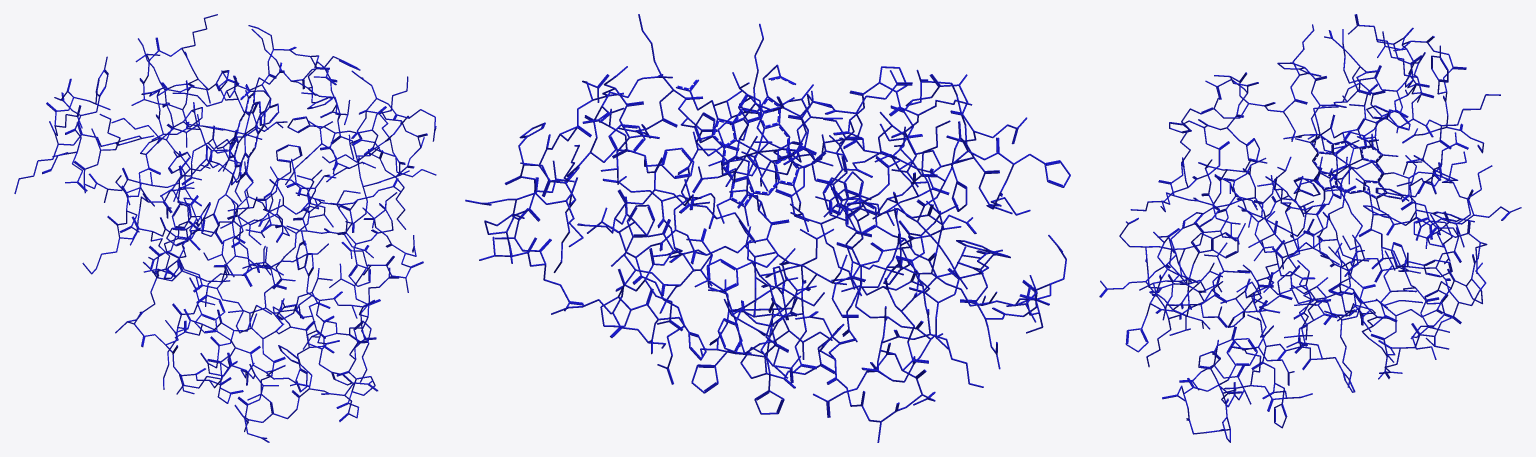
The model's file is 1mbn__lines__b-factor.glb.
3 views of the same model, side by side, from view 1: azimuth 30°, elevation 25°; view 2: azimuth 150°, elevation 25°; view 3: azimuth 270°, elevation 25° (orthographic). The views are drawn at different scales.
Parts seen in each view (by area): view 1: Renderer Node; view 2: Renderer Node; view 3: Renderer Node.
Boxes of the visible parts, <box> form: Renderer Node: <box>14,14,436,442</box>; Renderer Node: <box>465,14,1070,442</box>; Renderer Node: <box>1099,14,1521,442</box>.
Bounding box in the file's own units: 42.81 × 38.98 × 39.04.
